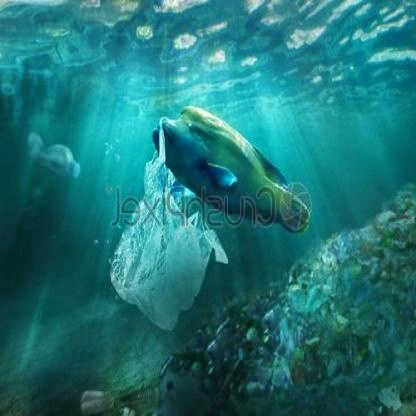pbag: (104, 108, 230, 335)
